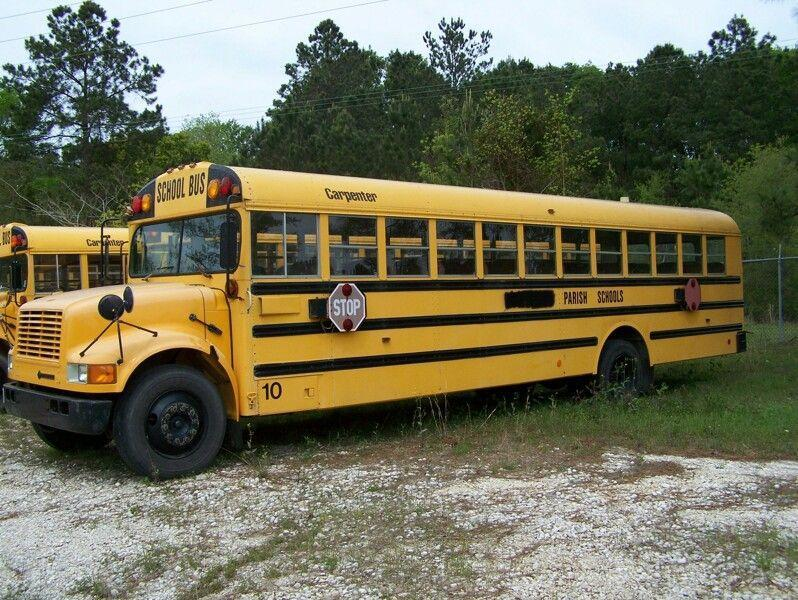Bus: (6, 162, 742, 479)
